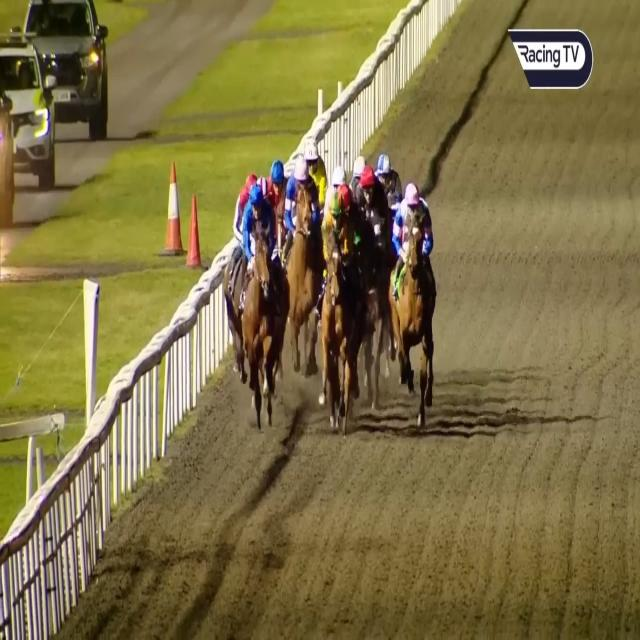horses-racing: (386, 180, 432, 422), (239, 184, 286, 418), (323, 194, 358, 416), (286, 155, 321, 345), (358, 165, 382, 292), (299, 133, 332, 187), (267, 158, 292, 216), (342, 178, 358, 239), (377, 152, 398, 198), (235, 165, 258, 207), (350, 152, 368, 188), (258, 170, 272, 210), (331, 166, 348, 194)
